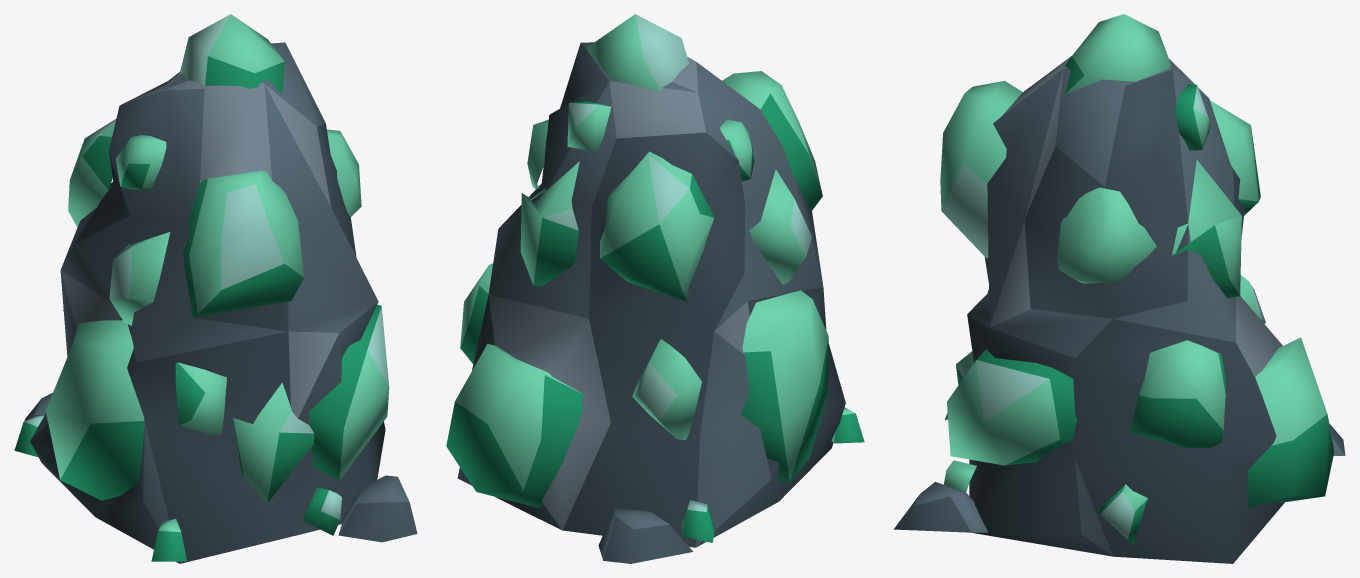
Rendered from natureuniverse_diamond_diamond_original.glb.
The picture shows the model from 3 angles, left to right: view 1: azimuth 30°, elevation 25°; view 2: azimuth 150°, elevation 25°; view 3: azimuth 270°, elevation 25°; orthographic projection. The views are drawn at different scales.
Visible parts, largest first — view 1: Diamond; view 2: Diamond; view 3: Diamond.
Boxes of the visible parts, <box> form: Diamond: <box>14,14,417,563</box>; Diamond: <box>446,14,864,563</box>; Diamond: <box>893,14,1345,563</box>.
Size of the model in its own units: 1.73 by 2.5 by 2.09.
Materials: 1 (1 with a texture image).
